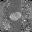people: (10, 12, 22, 21)
